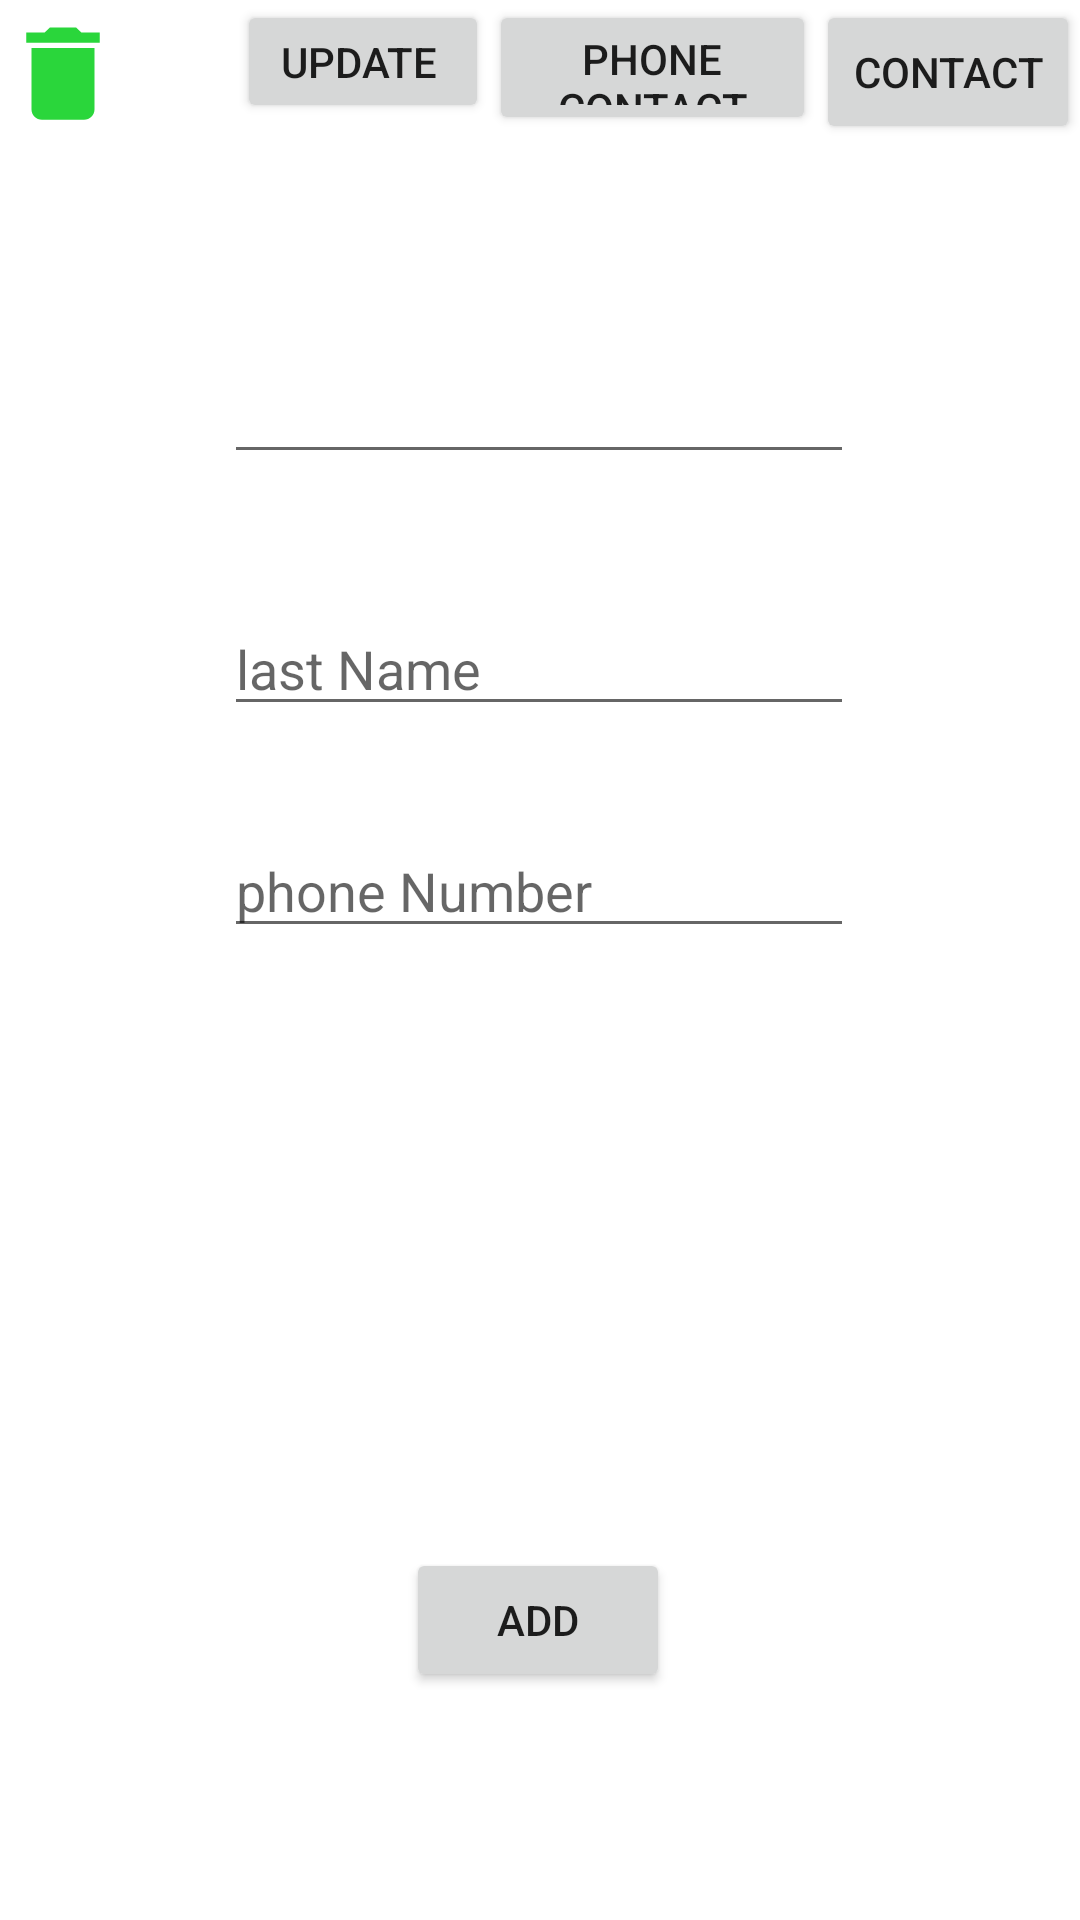

Icons on this 1080w x 1920h Android screen, each with the point to tap as point (x, y):
delete: point (63, 73)
